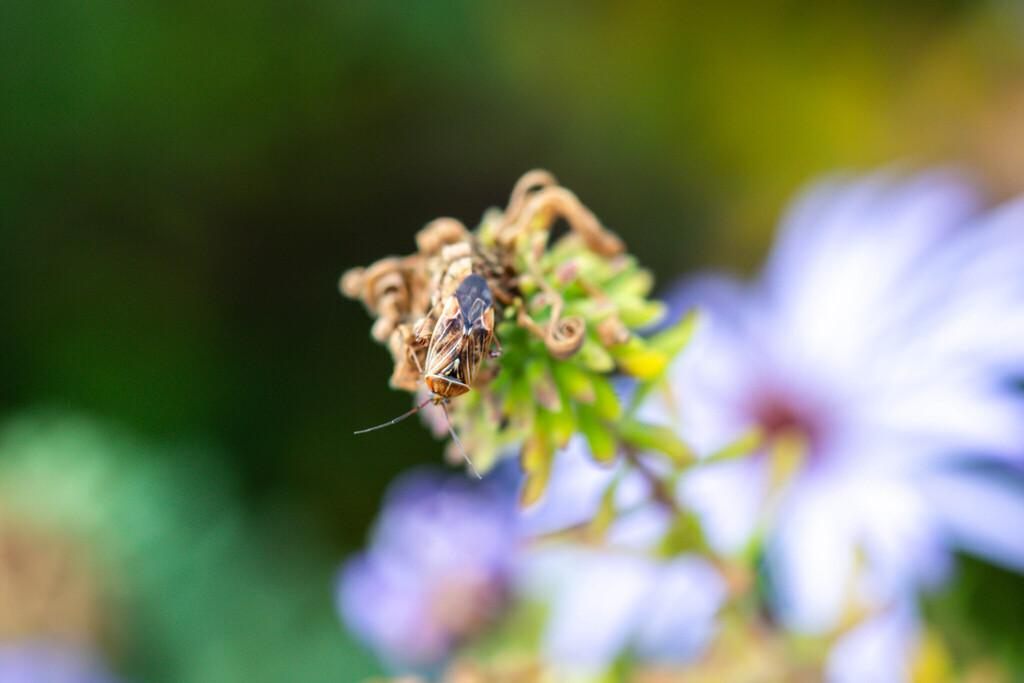plant_bugs: (335, 251, 559, 494)
